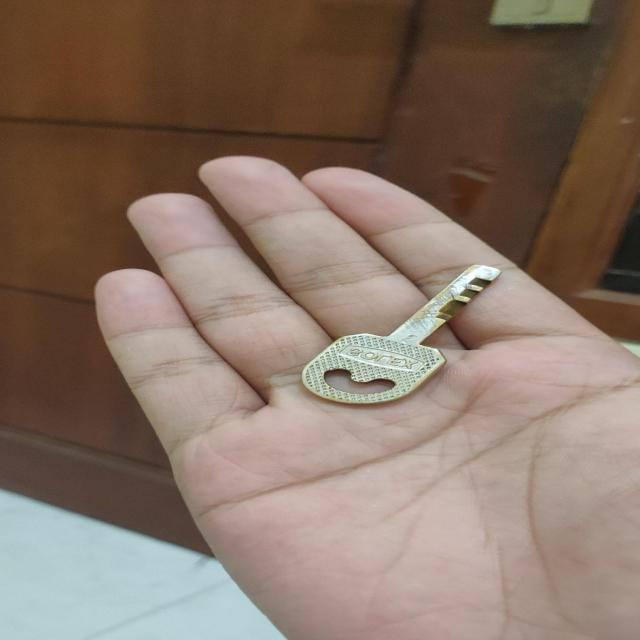kunci_pagar: (282, 257, 510, 408)
